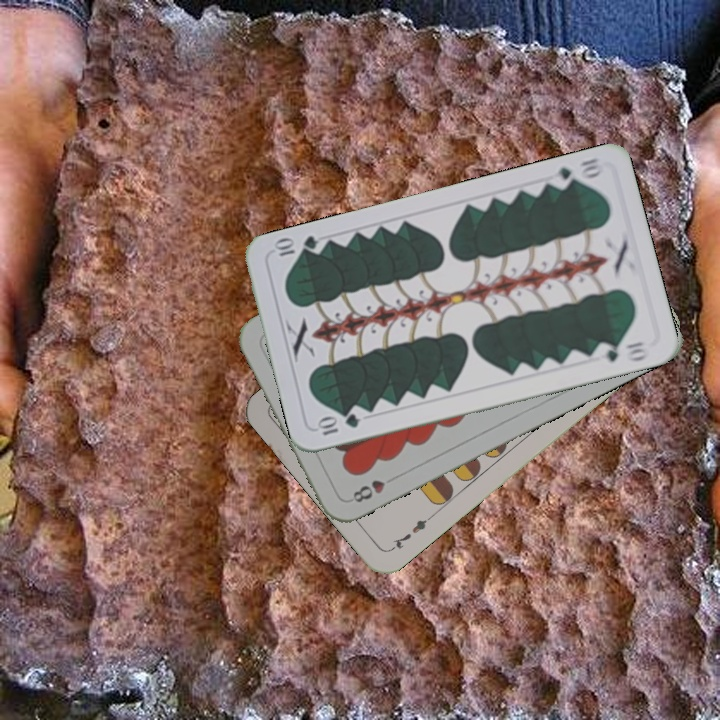E7: (386, 511, 435, 554)
G10: (547, 154, 607, 192), (313, 410, 363, 438)
H8: (346, 475, 388, 505)
